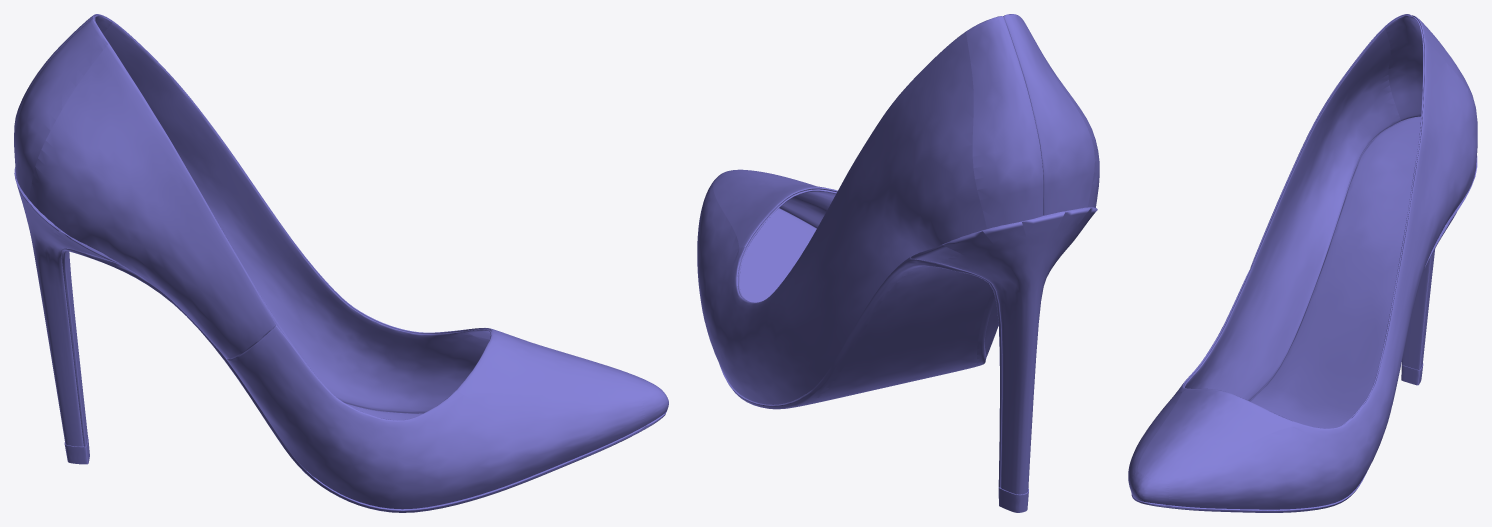
The model's file is Demo-Newheel4-v1.glb.
3 renders of one model, left to right at view 1: azimuth 30°, elevation 25°; view 2: azimuth 150°, elevation 25°; view 3: azimuth 270°, elevation 25°, orthographic. The views are drawn at different scales.
Parts seen in each view (by area): view 1: Object_4; view 2: Object_4; view 3: Object_4.
Part boxes in pixels (box(x1,y1,x2,y2)): Object_4: box(14, 14, 668, 512); Object_4: box(697, 14, 1099, 512); Object_4: box(1128, 14, 1477, 512).
Bounding box in the file's own units: 10.62 × 9.2 × 7.82.
